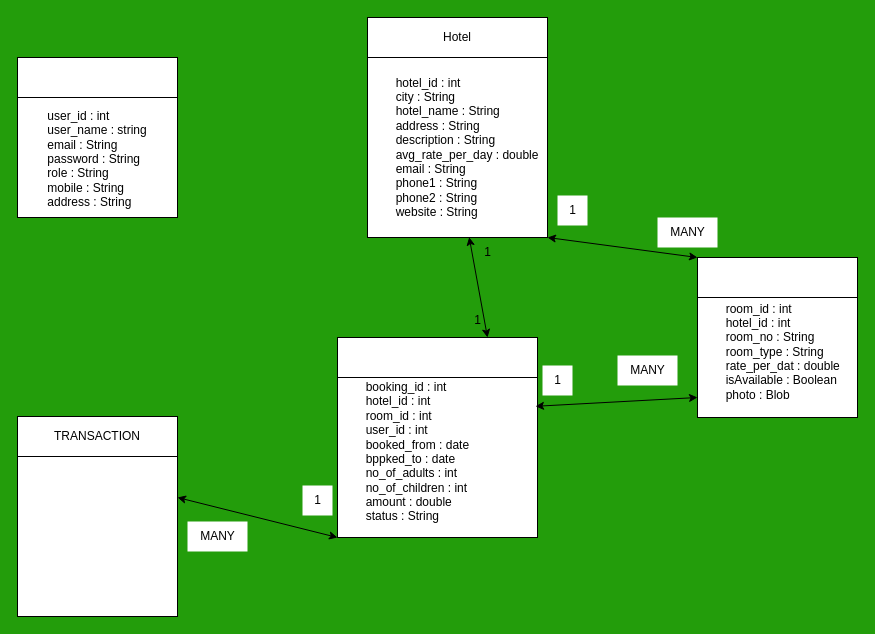
The diagram is 875 pixels wide and 634 high, and some of its shapes have lost their labels. The box of each missing label's shape, as (x1, y1, x2, y2) in pixels:
BookingDetails: (336, 336, 538, 378)
ROOM DETAILS: (696, 256, 858, 298)
transaction_id : int paid_amount : double booking_id : int txn_date : date: (16, 456, 178, 616)
User: (16, 56, 178, 98)
